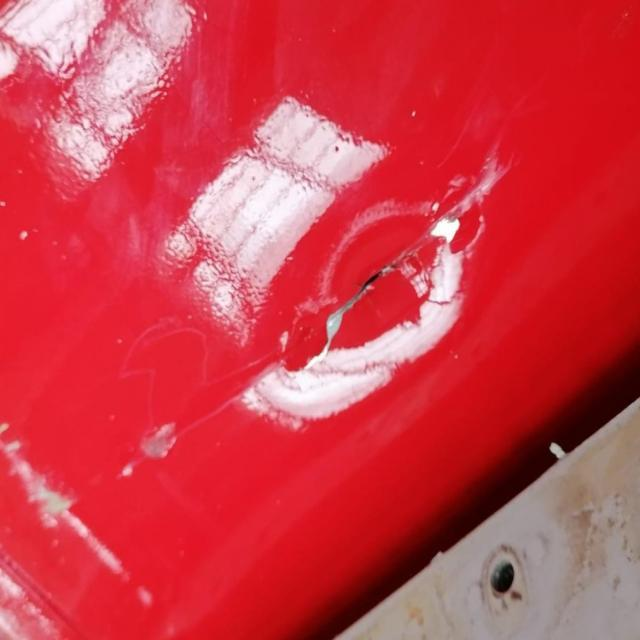crack: (276, 158, 448, 454)
